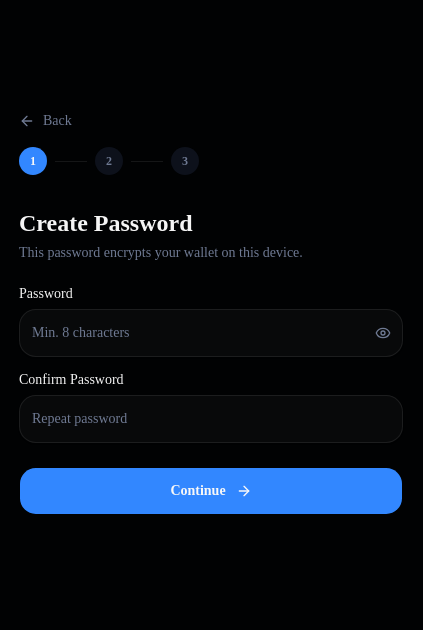
Test: CreateWalletPage › advances to mnemonic step after valid password
This screenshot has width=423, height=630.
Type "password123" into the password field with placeholder "Min. 8 characters" at [211, 333], box [19,309,403,357]
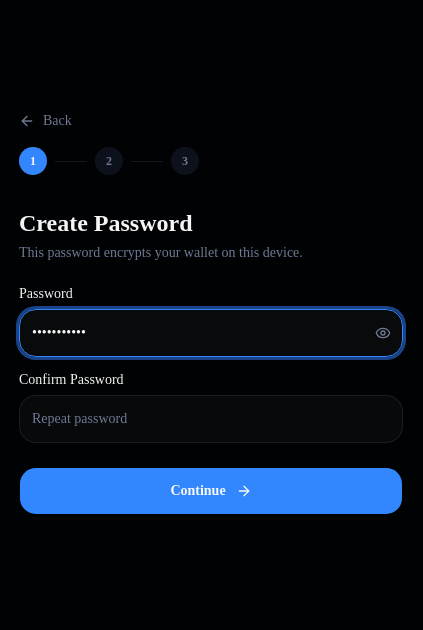
Type "password123" into the password field with placeholder "Repeat password" at [211, 419], box [19,395,403,443]
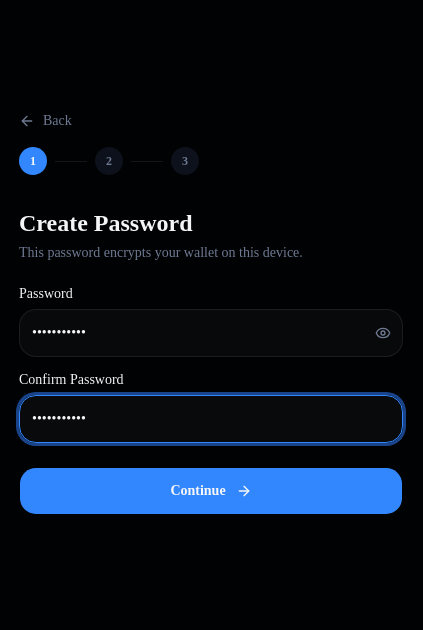
Click the button "Continue" at [211, 491], box [19,467,403,515]
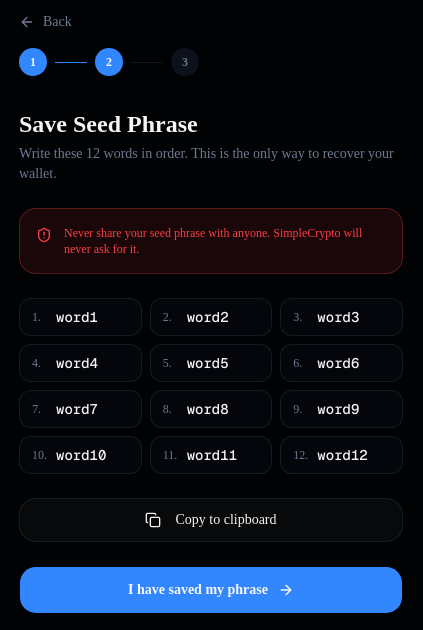
Result: the heading "Save Seed Phrase" is shown at [19,111,198,137]
